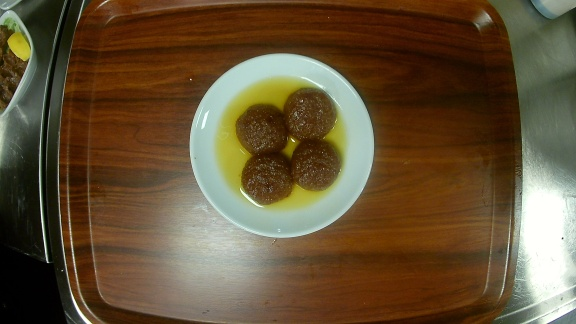kemalpasa: (189, 53, 377, 238)
